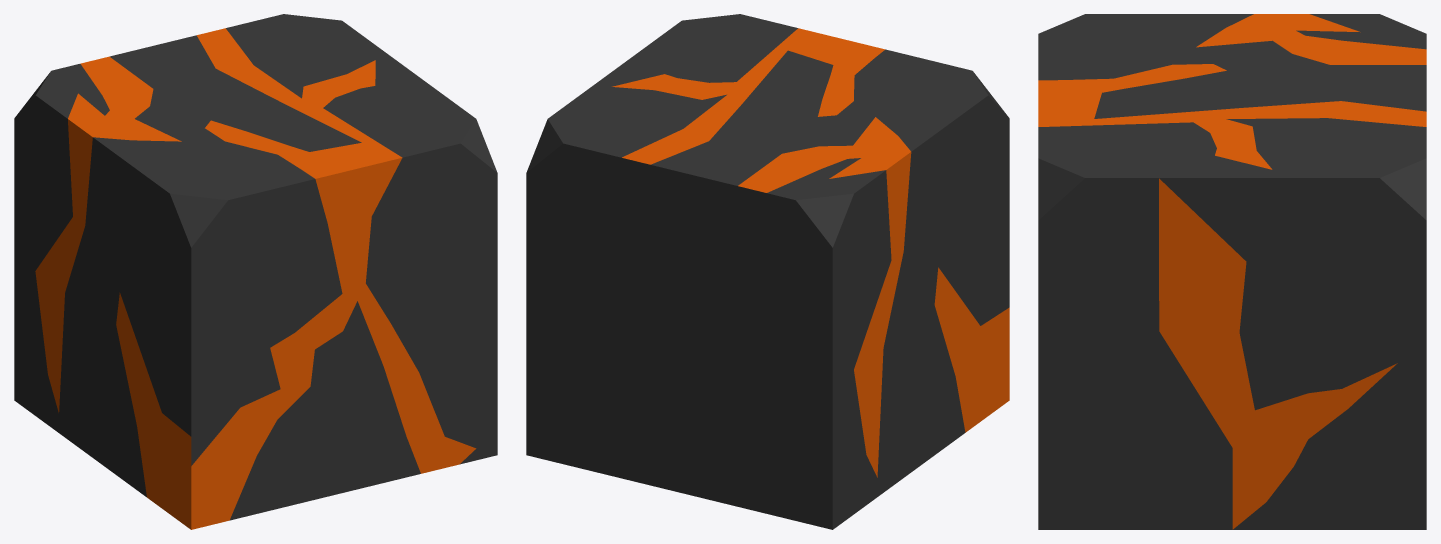
Rendered from Tile_LavaRock.fbx.
3 renders of one model, left to right at view 1: azimuth 30°, elevation 25°; view 2: azimuth 150°, elevation 25°; view 3: azimuth 270°, elevation 25°, orthographic. The views are drawn at different scales.
Visible parts, largest first — view 1: TIle_LavaRock; view 2: TIle_LavaRock; view 3: TIle_LavaRock.
Part boxes in pixels (left/top/right/bottom): TIle_LavaRock: left=14, top=14, right=497, bottom=529; TIle_LavaRock: left=526, top=14, right=1009, bottom=529; TIle_LavaRock: left=1038, top=14, right=1426, bottom=529.
Size of the model in its own units: 5 by 5 by 5.
